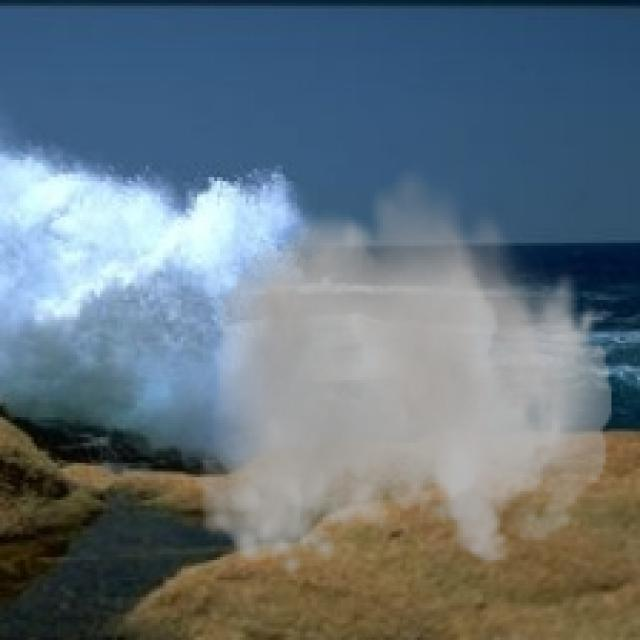smoke: (197, 160, 612, 577)
